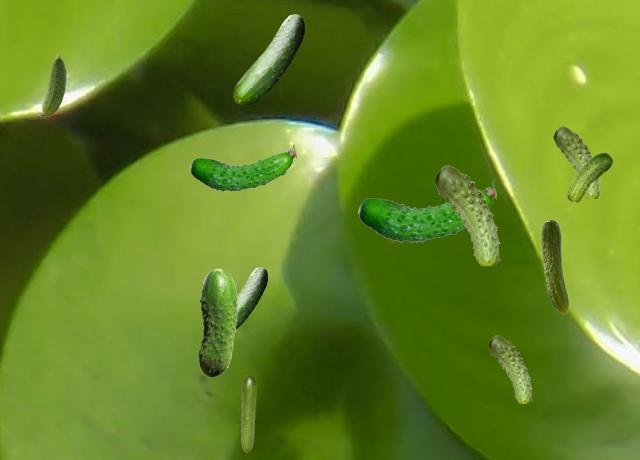cucumber: (357, 180, 495, 242), (434, 165, 499, 264), (233, 14, 303, 104), (189, 144, 295, 191), (198, 268, 237, 376), (553, 126, 599, 197), (488, 335, 531, 402), (541, 219, 568, 313), (567, 153, 611, 201), (237, 267, 266, 329), (38, 54, 65, 116), (241, 375, 255, 451)
